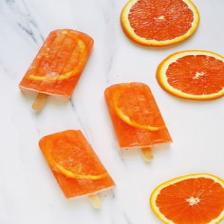orange: (19, 29, 92, 110), (105, 82, 173, 149), (121, 0, 200, 46), (157, 51, 224, 101)
